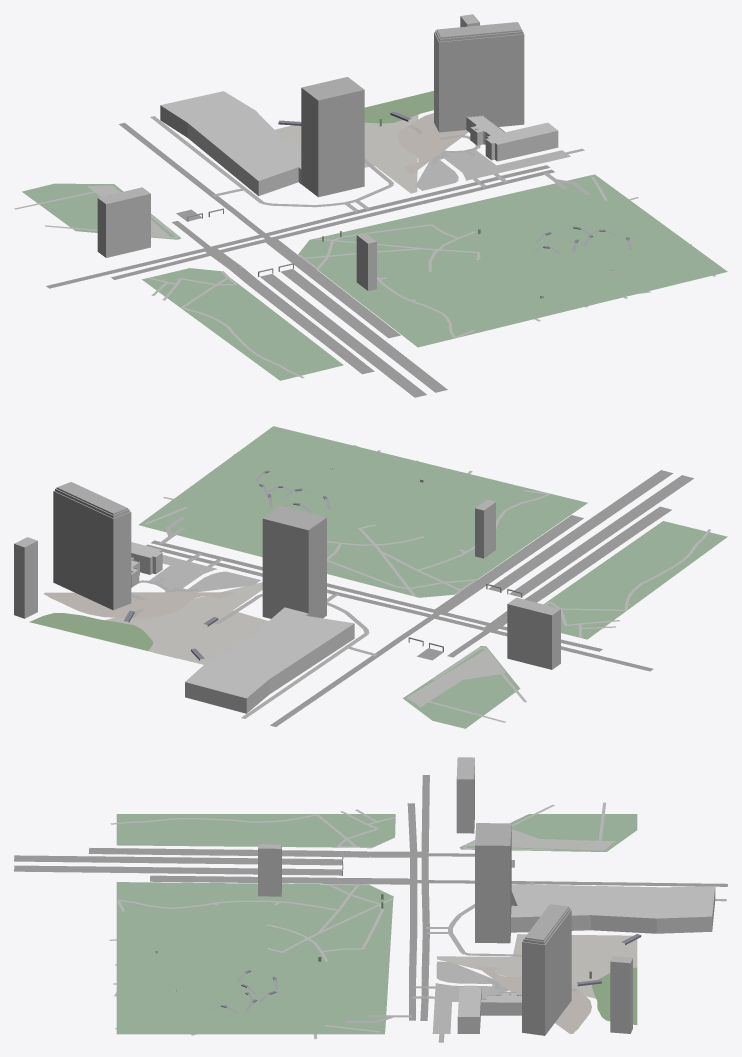
3 views of the same model, one above another, from view 1: azimuth 30°, elevation 25°; view 2: azimuth 150°, elevation 25°; view 3: azimuth 270°, elevation 25° (orthographic).
Size of the model in its own units: 607 by 104 by 686.
